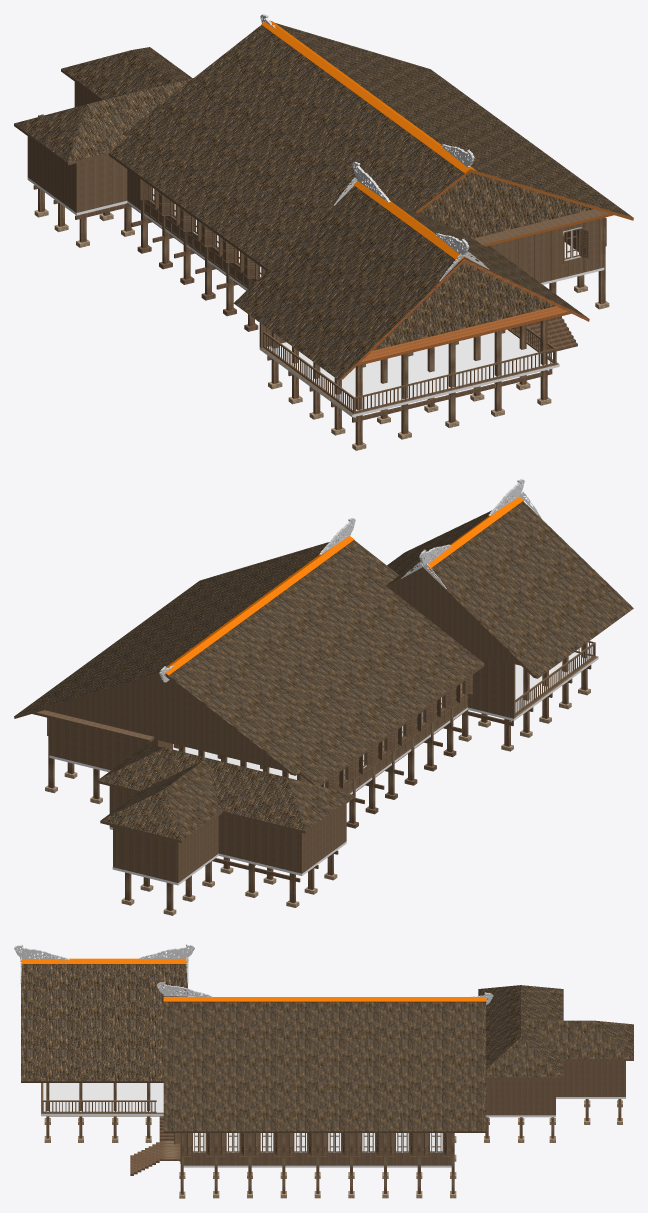
The model's file is rumah_saoraja_sulsel.glb.
3 renders of one model, top to bottom at view 1: azimuth 30°, elevation 25°; view 2: azimuth 150°, elevation 25°; view 3: azimuth 270°, elevation 25°, orthographic. The views are drawn at different scales.
Visible parts, largest first — view 1: _G-Object.003 (Loose Mesh), _(Loose Entity), _G-Object.034 (Loose Mesh), G-Object.002, G-Object.004, G-Object.204, _G-Object.033 (Loose Mesh), G-Object.1180; view 2: _G-Object.003 (Loose Mesh), _(Loose Entity), G-Object.002, _G-Object.034 (Loose Mesh), G-Object.204, _G-Object.033 (Loose Mesh); view 3: _G-Object.003 (Loose Mesh), _(Loose Entity), _G-Object.034 (Loose Mesh), G-Object.002, G-Object.204, _G-Object.033 (Loose Mesh), C-Group#144, C-Group#144.001, C-Group#144.002.
Boxes of the visible parts, x1,y1,x2,y2 form: _G-Object.003 (Loose Mesh): (14, 23, 633, 380); _(Loose Entity): (14, 69, 608, 414); _G-Object.034 (Loose Mesh): (27, 177, 604, 417); G-Object.002: (38, 114, 605, 445); G-Object.004: (339, 179, 589, 380); G-Object.204: (261, 20, 475, 261); _G-Object.033 (Loose Mesh): (34, 209, 609, 450); G-Object.1180: (352, 369, 552, 422); _G-Object.003 (Loose Mesh): (15, 501, 633, 840); _(Loose Entity): (14, 568, 598, 882); G-Object.002: (48, 642, 587, 910); _G-Object.034 (Loose Mesh): (49, 652, 598, 885); G-Object.204: (158, 496, 523, 675); _G-Object.033 (Loose Mesh): (45, 687, 590, 915); _G-Object.003 (Loose Mesh): (21, 964, 633, 1131); _(Loose Entity): (21, 1059, 633, 1165); _G-Object.034 (Loose Mesh): (41, 1083, 625, 1167); G-Object.002: (46, 990, 621, 1194); G-Object.204: (22, 958, 486, 1002); _G-Object.033 (Loose Mesh): (44, 1100, 622, 1198); C-Group#144: (14, 944, 69, 960); C-Group#144.001: (156, 981, 212, 997); C-Group#144.002: (139, 944, 194, 959).
Bounding box in the file's own units: 36.77 × 18.41 × 64.63.
Materials: 11 (7 with a texture image).
